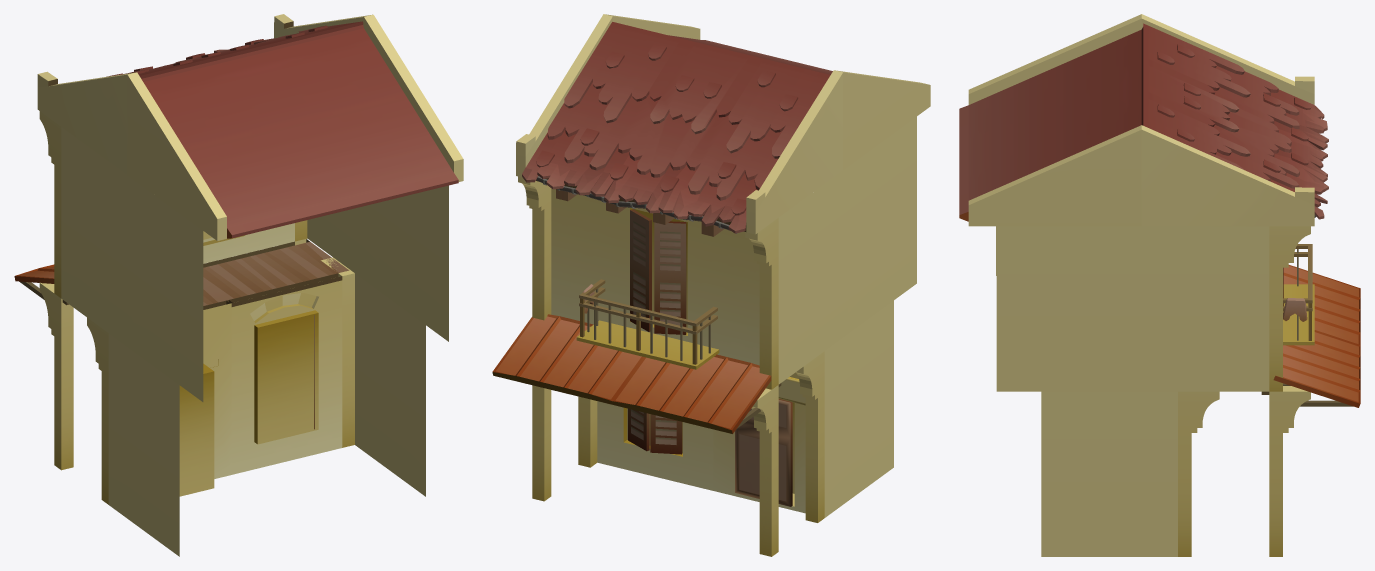
File: SM_Facade_OldQuarter_Double_03.fbx
The picture shows the model from 3 angles, left to right: view 1: azimuth 30°, elevation 25°; view 2: azimuth 150°, elevation 25°; view 3: azimuth 270°, elevation 25°; orthographic projection. The views are drawn at different scales.
Visible parts, largest first — view 1: mur simple.163; view 2: mur simple.163; view 3: mur simple.163.
Part boxes in pixels (bbox=[...]): mur simple.163: bbox=[14, 14, 463, 556]; mur simple.163: bbox=[492, 14, 930, 556]; mur simple.163: bbox=[959, 14, 1360, 556].
Bounding box in the file's own units: 601 × 1035 × 880.
